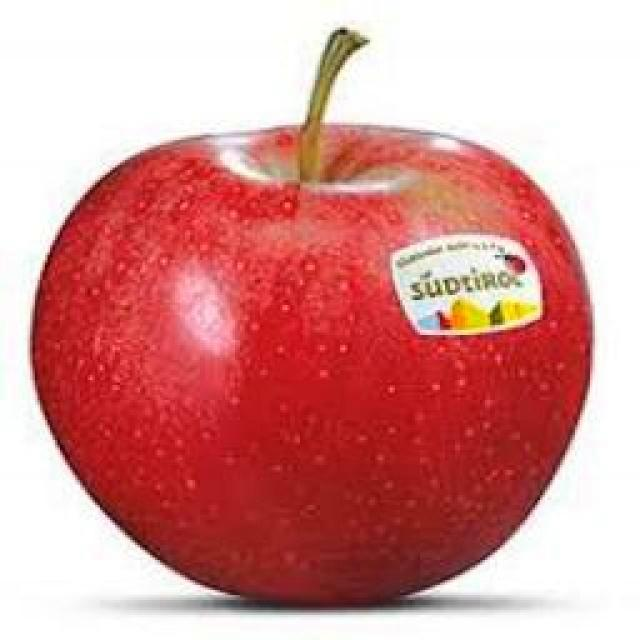Apple: (32, 125, 591, 604)
